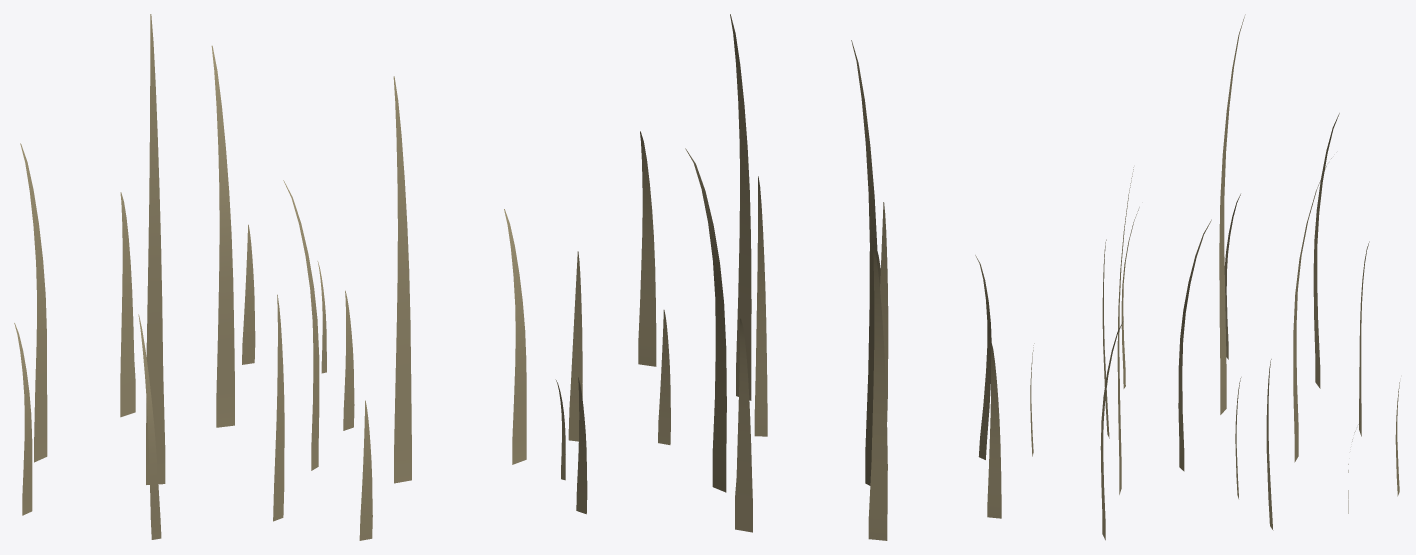
File: grass.fbx
3 renders of one model, left to right at view 1: azimuth 30°, elevation 25°; view 2: azimuth 150°, elevation 25°; view 3: azimuth 270°, elevation 25°, orthographic. The views are drawn at different scales.
Parts seen in each view (by area): view 1: Grass1; view 2: Grass1; view 3: Grass1.
Boxes of the visible parts, x1,y1,x2,y2 form: Grass1: (14,14,526,540); Grass1: (555,14,1001,540); Grass1: (1030,14,1399,540).
Bounding box in the file's own units: 134 × 113 × 135.
